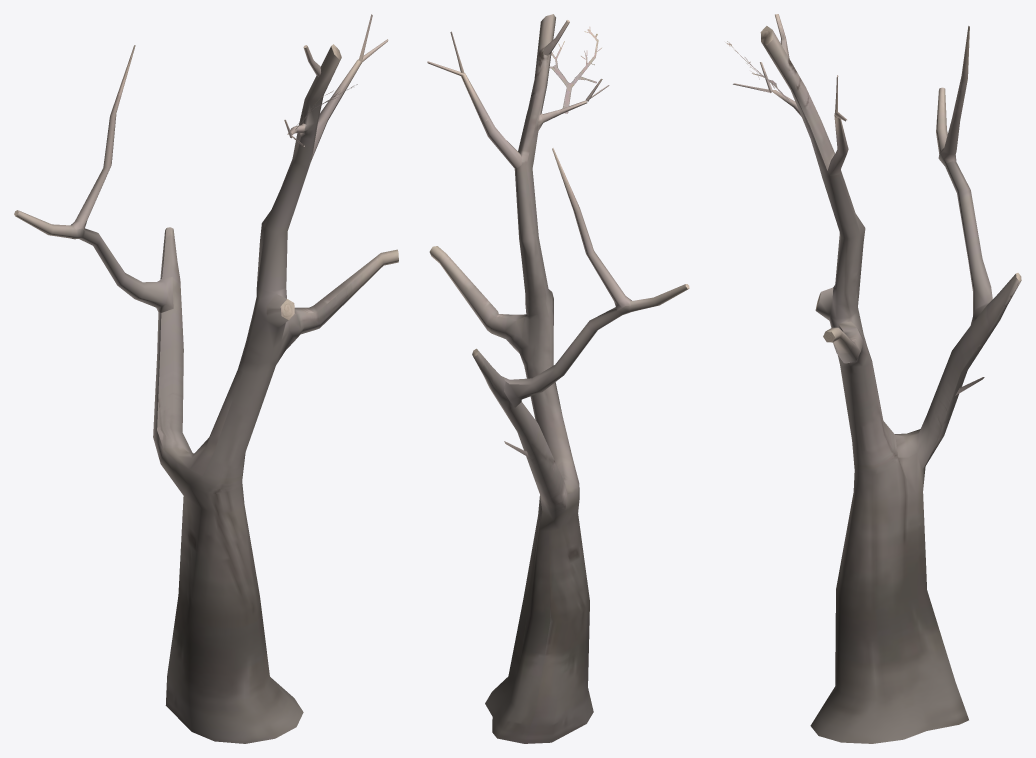
3 views of the same model, side by side, from view 1: azimuth 30°, elevation 25°; view 2: azimuth 150°, elevation 25°; view 3: azimuth 270°, elevation 25° (orthographic). The views are drawn at different scales.
Visible parts, largest first — view 1: body0_model0_lod0_mesh0; view 2: body0_model0_lod0_mesh0; view 3: body0_model0_lod0_mesh0.
Boxes of the visible parts, box(x1,y1,x2,y2) form: body0_model0_lod0_mesh0: box(14, 14, 398, 743); body0_model0_lod0_mesh0: box(427, 14, 689, 743); body0_model0_lod0_mesh0: box(725, 14, 1021, 743).
Bounding box in the file's own units: 95.28 × 194 × 73.74.
1 material, 1 textured.
